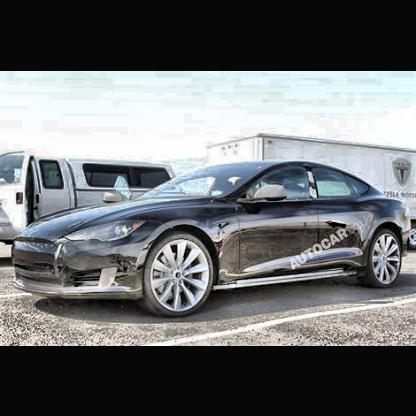Tesla Model S Sedan 2012: (6, 140, 416, 324)
